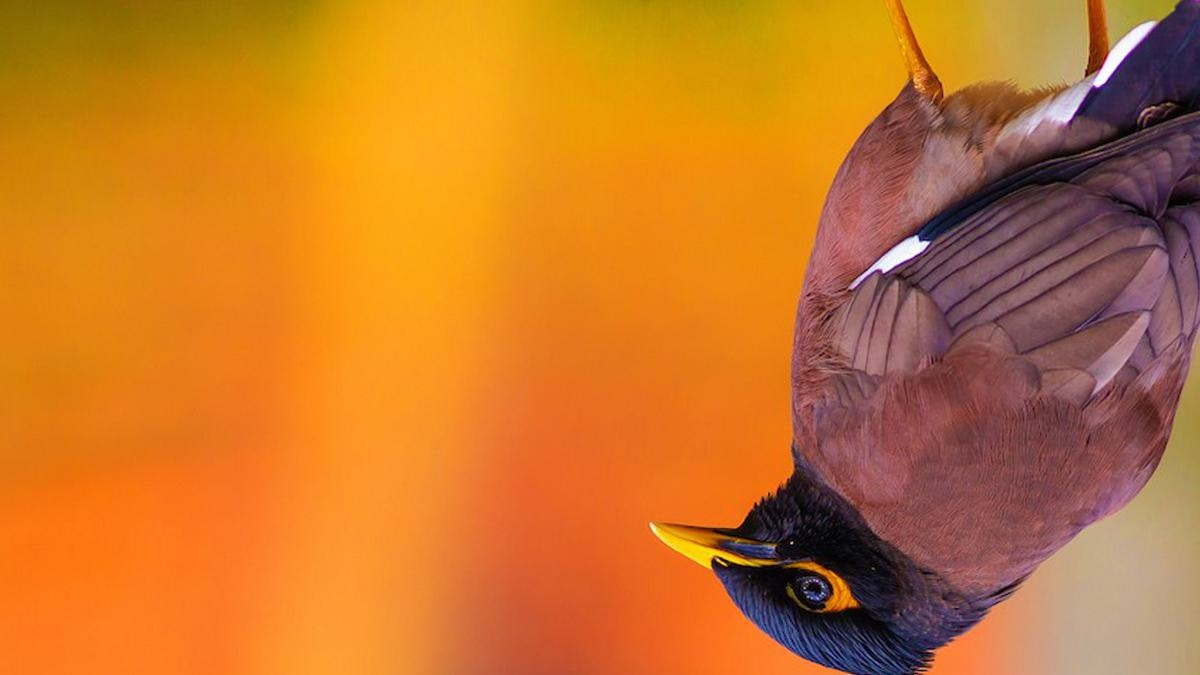myna: (654, 98, 1181, 660)
